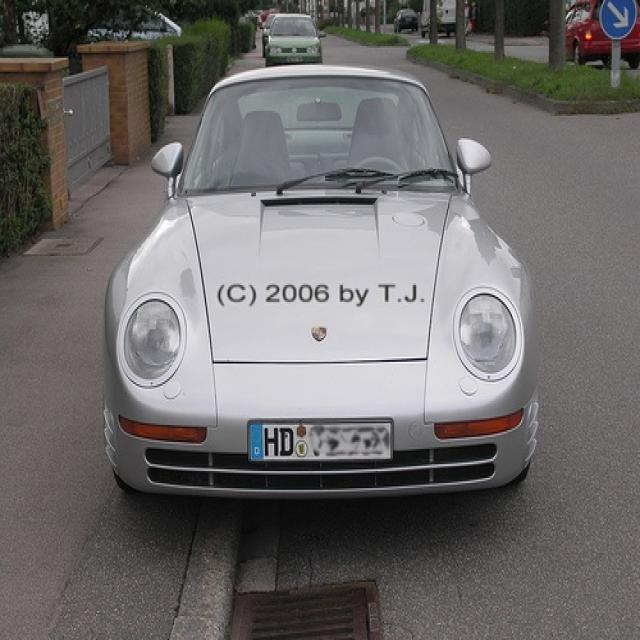car: (101, 65, 539, 498), (563, 0, 638, 61), (266, 12, 323, 60), (394, 7, 420, 34)
